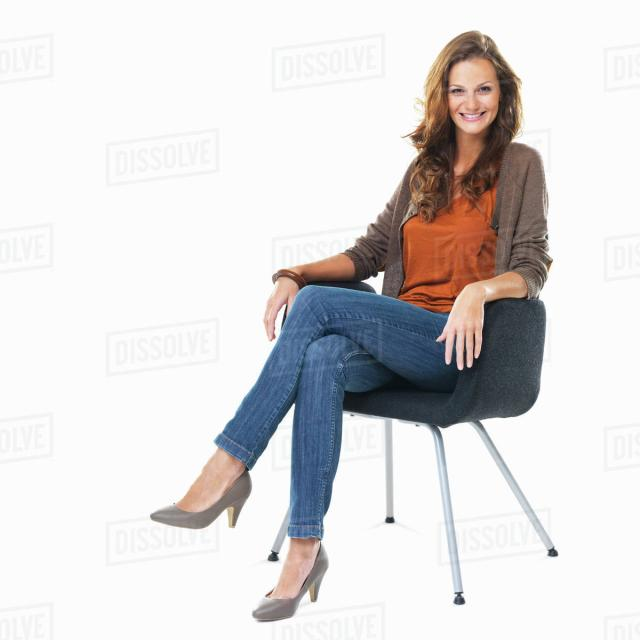nonfall: (213, 14, 566, 623)
